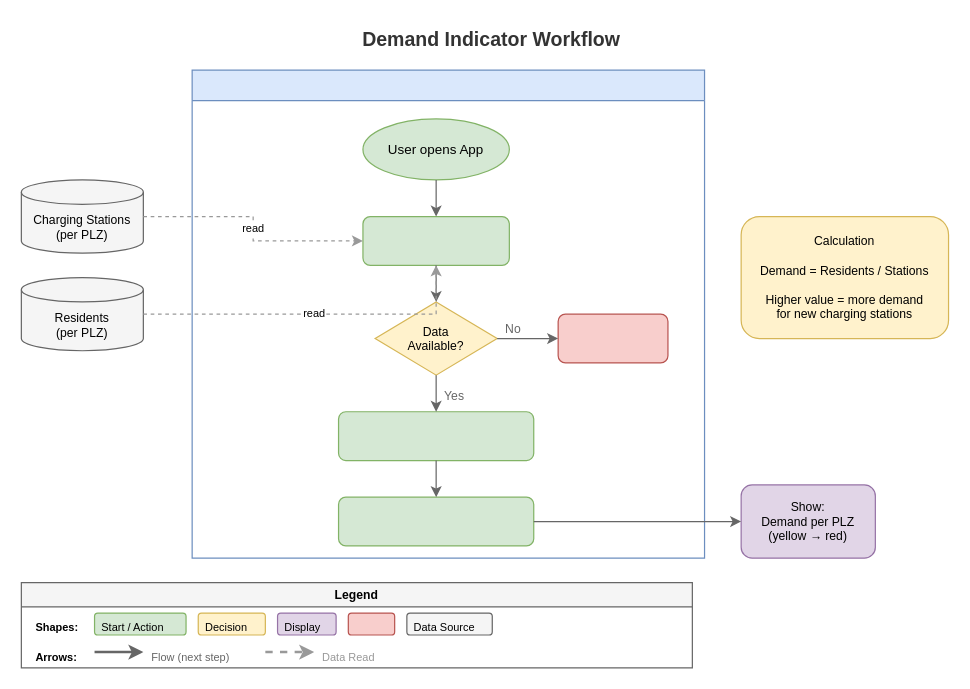
Some shapes in this 970 by 689 pixel diagram are drawn without their labels. Each missing label, with the box of its shape:
Calculate Demand Score: (337, 411, 534, 461)
Display Heatmap on Map: (337, 496, 534, 546)
Error: (347, 612, 395, 635)
Load Data: (362, 215, 509, 265)
Show Error: (557, 313, 668, 363)
User Flow: (191, 69, 705, 558)
